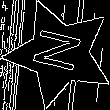N_E: (29, 28, 90, 79)
